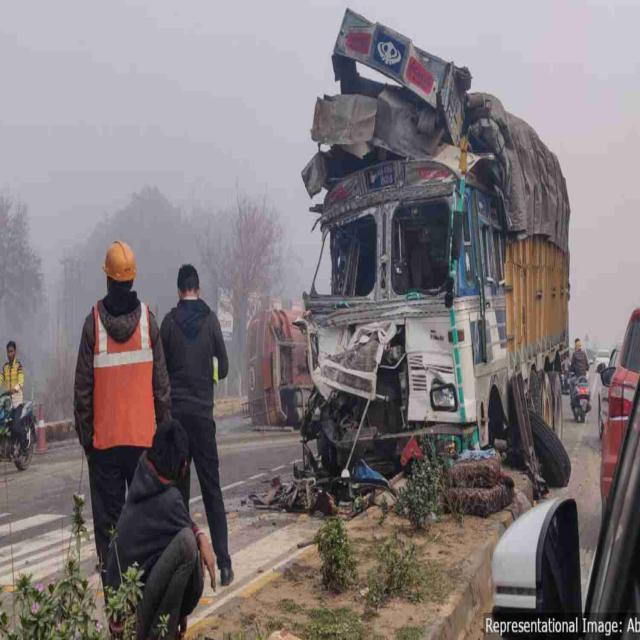accident: (302, 10, 570, 477)
